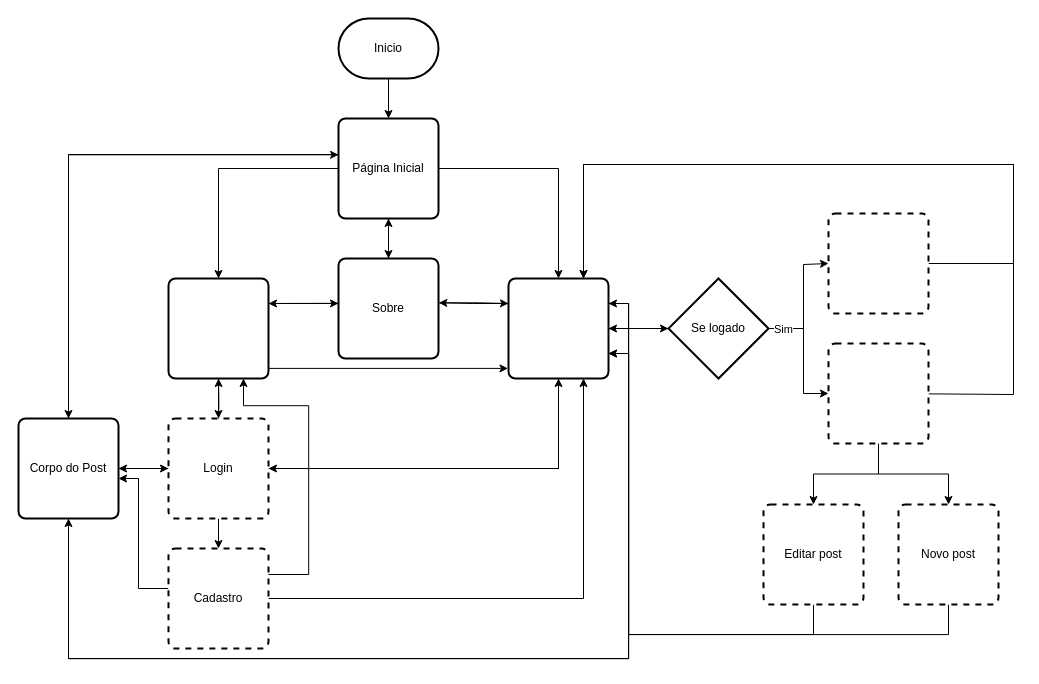
Image size: 1039x684. Some labels were removed from this diagram. The box of each missing label's shape, as (x1, y1, x2, y2) in pixels:
Feed da Comunidade: (507, 277, 609, 379)
Perfil: (827, 212, 929, 314)
Página Principal: (167, 277, 269, 379)
Seus posts: (827, 342, 929, 444)
